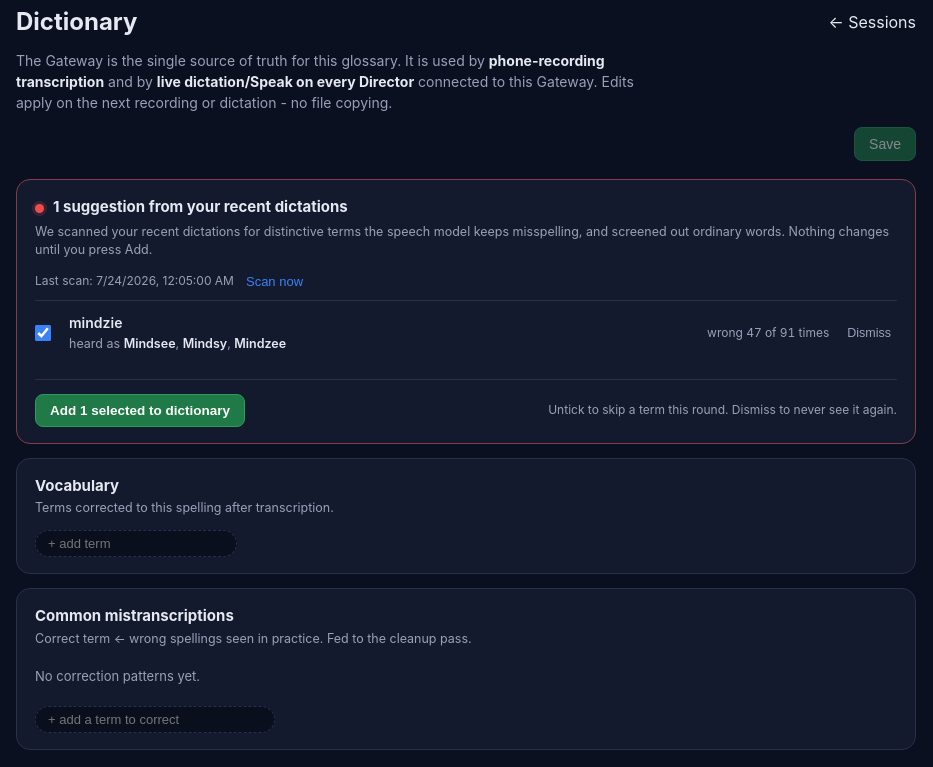
Test case: DictionaryView suggestions panel › adds the ticked terms on one press
The width and height of the screenshot is (933, 767).
Click the button "Add 1 selected to dictionary".
click(140, 410)  # box [35,394,245,427]
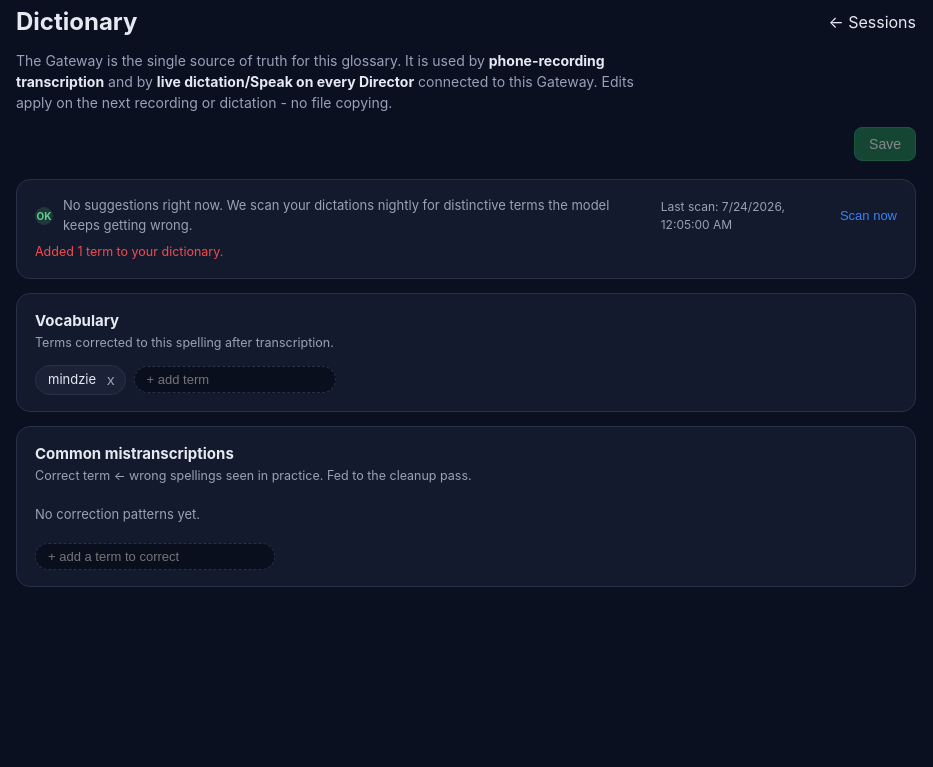
Expected: the text "No suggestions right now" is shown, [63,197,609,232]
